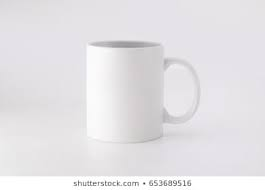cup: (79, 37, 207, 155)
